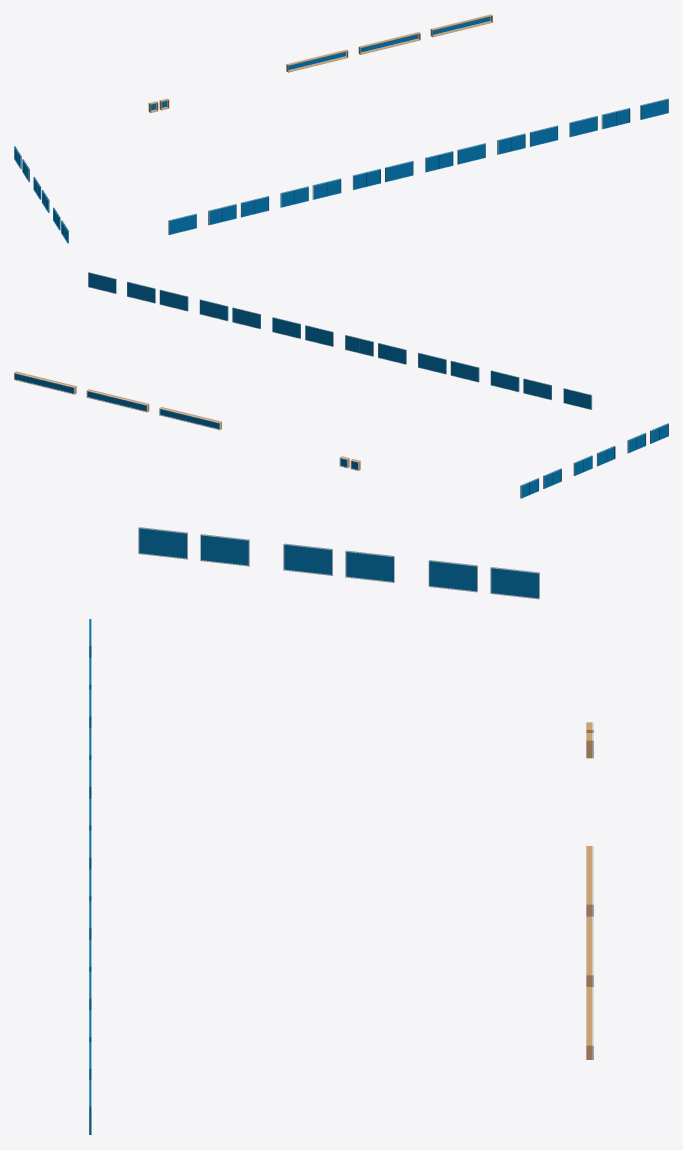
The model's file is Building Model - Excavation and Trench - updated_1kn71nZ$z5OvtVVlfMp9Jm-Piso -1_IfcWindow.dae.
3 views of the same model, one above another, from view 1: azimuth 30°, elevation 25°; view 2: azimuth 150°, elevation 25°; view 3: azimuth 270°, elevation 25° (orthographic). The views are drawn at different scales.
Parts seen in each view (by area): view 1: 2Cddr5TeL34ef6QPsMHpHh, 2Cddr5TeL34ef6QPsMHpHf, 2Cddr5TeL34ef6QPsMHpHe, 1pUn4qOMb5ig0wzZkW1las, 1pUn4qOMb5ig0wzZkW1lj0, 1pUn4qOMb5ig0wzZkW1lWZ, 1pUn4qOMb5ig0wzZkW1laL, 1pUn4qOMb5ig0wzZkW1lWW, 1pUn4qOMb5ig0wzZkW1laQ, 1pUn4qOMb5ig0wzZkW1lan, 1pUn4qOMb5ig0wzZkW1lar, 1pUn4qOMb5ig0wzZkW1liz (+5 smaller); view 2: 2Cddr5TeL34ef6QPsMHpHe, 2Cddr5TeL34ef6QPsMHpHf, 2Cddr5TeL34ef6QPsMHpHh, 1pUn4qOMb5ig0wzZkW1lWW, 1pUn4qOMb5ig0wzZkW1liz, 1pUn4qOMb5ig0wzZkW1lj0, 1pUn4qOMb5ig0wzZkW1laQ, 1pUn4qOMb5ig0wzZkW1las, 1DIdXU4y96ofBD4QtzzucI, 1pUn4qOMb5ig0wzZkW1lWZ, 1pUn4qOMb5ig0wzZkW1laL, 1pUn4qOMb5ig0wzZkW1lat (+5 smaller); view 3: 3T5wL3IPnA888yRMzy4Fge, 3T5wL3IPnA888yRMzy4Ffo, 3T5wL3IPnA888yRMzy4FtB, 3T5wL3IPnA888yRMzy4FrC, 3T5wL3IPnA888yRMzy4FrU, 3T5wL3IPnA888yRMzy4FtL.
Part boxes in pixels (x1=…): 2Cddr5TeL34ef6QPsMHpHh: x1=430, y1=14, x2=492, y2=37; 2Cddr5TeL34ef6QPsMHpHf: x1=286, y1=49, x2=348, y2=72; 2Cddr5TeL34ef6QPsMHpHe: x1=358, y1=31, x2=420, y2=54; 1pUn4qOMb5ig0wzZkW1las: x1=529, y1=125, x2=558, y2=146; 1pUn4qOMb5ig0wzZkW1lj0: x1=240, y1=196, x2=269, y2=217; 1pUn4qOMb5ig0wzZkW1lWZ: x1=601, y1=107, x2=630, y2=129; 1pUn4qOMb5ig0wzZkW1laL: x1=312, y1=178, x2=341, y2=199; 1pUn4qOMb5ig0wzZkW1lWW: x1=569, y1=115, x2=597, y2=137; 1pUn4qOMb5ig0wzZkW1laQ: x1=280, y1=186, x2=308, y2=207; 1pUn4qOMb5ig0wzZkW1lan: x1=457, y1=143, x2=485, y2=164; 1pUn4qOMb5ig0wzZkW1lar: x1=497, y1=133, x2=525, y2=154; 1pUn4qOMb5ig0wzZkW1liz: x1=168, y1=213, x2=196, y2=235; 2Cddr5TeL34ef6QPsMHpHe: x1=86, y1=389, x2=149, y2=412; 2Cddr5TeL34ef6QPsMHpHf: x1=159, y1=407, x2=221, y2=430; 2Cddr5TeL34ef6QPsMHpHh: x1=14, y1=371, x2=76, y2=394; 1pUn4qOMb5ig0wzZkW1lWW: x1=159, y1=289, x2=188, y2=311; 1pUn4qOMb5ig0wzZkW1liz: x1=563, y1=388, x2=592, y2=409; 1pUn4qOMb5ig0wzZkW1lj0: x1=490, y1=370, x2=519, y2=392; 1pUn4qOMb5ig0wzZkW1laQ: x1=450, y1=361, x2=479, y2=382; 1pUn4qOMb5ig0wzZkW1las: x1=199, y1=299, x2=228, y2=321; 1DIdXU4y96ofBD4QtzzucI: x1=88, y1=272, x2=116, y2=293; 1pUn4qOMb5ig0wzZkW1lWZ: x1=127, y1=281, x2=155, y2=303; 1pUn4qOMb5ig0wzZkW1laL: x1=418, y1=352, x2=446, y2=374; 1pUn4qOMb5ig0wzZkW1lat: x1=378, y1=343, x2=406, y2=364; 3T5wL3IPnA888yRMzy4Fge: x1=200, y1=534, x2=249, y2=566; 3T5wL3IPnA888yRMzy4Ffo: x1=138, y1=527, x2=187, y2=559; 3T5wL3IPnA888yRMzy4FtB: x1=428, y1=560, x2=477, y2=592; 3T5wL3IPnA888yRMzy4FrC: x1=490, y1=567, x2=539, y2=599; 3T5wL3IPnA888yRMzy4FrU: x1=345, y1=550, x2=394, y2=582; 3T5wL3IPnA888yRMzy4FtL: x1=283, y1=543, x2=332, y2=575.
Size of the model in its own units: 48.91 by 18.16 by 1.56.
